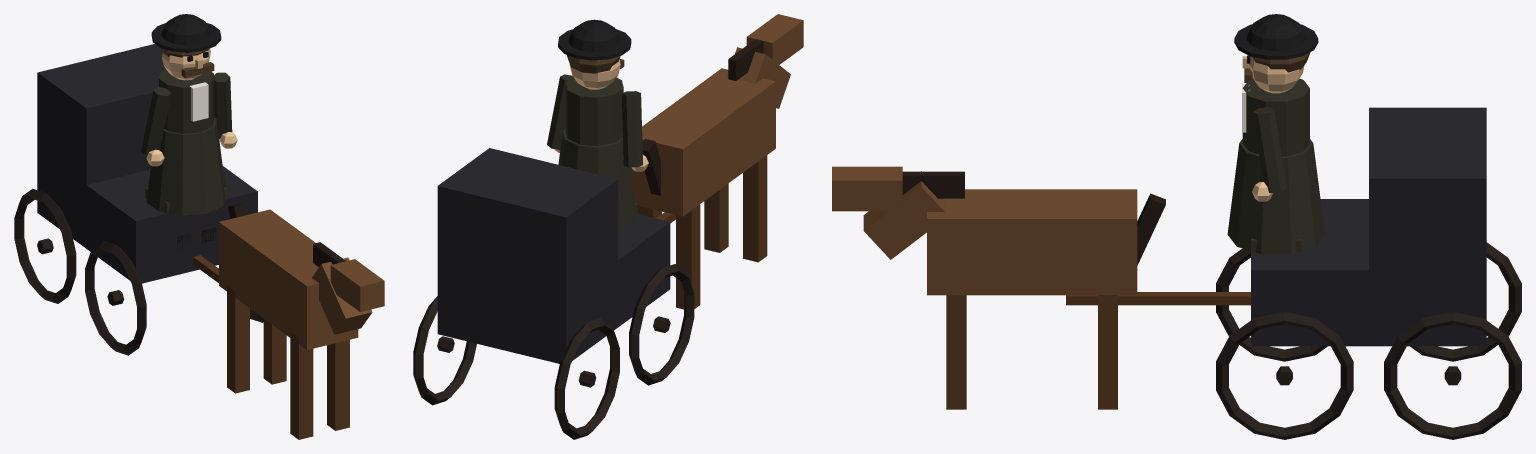
File: dorozka.glb
3 views of the same model, side by side, from view 1: azimuth 30°, elevation 25°; view 2: azimuth 150°, elevation 25°; view 3: azimuth 270°, elevation 25° (orthographic). The views are drawn at different scales.
Parts seen in each view (by area): view 1: dorozka; view 2: dorozka; view 3: dorozka.
Boxes of the visible parts, x1,y1,x2,y2 form: dorozka: [14, 14, 384, 439]; dorozka: [413, 14, 803, 439]; dorozka: [832, 14, 1521, 439].
Size of the model in its own units: 1.18 by 2.51 by 4.1.
